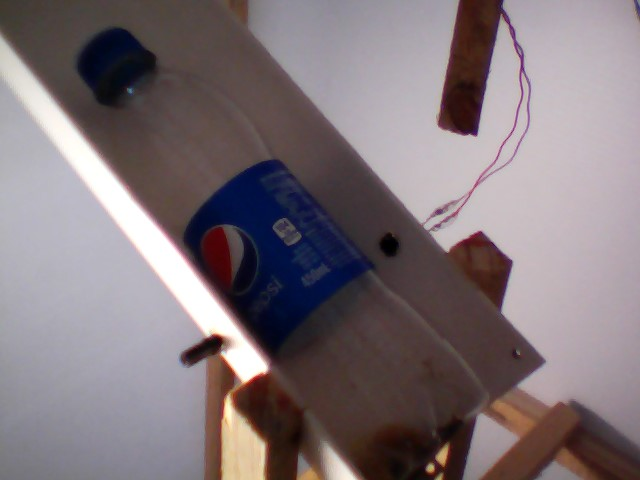plastico: (75, 16, 493, 480)
